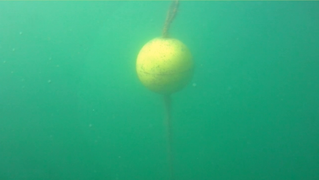buoy: (135, 36, 195, 96)
